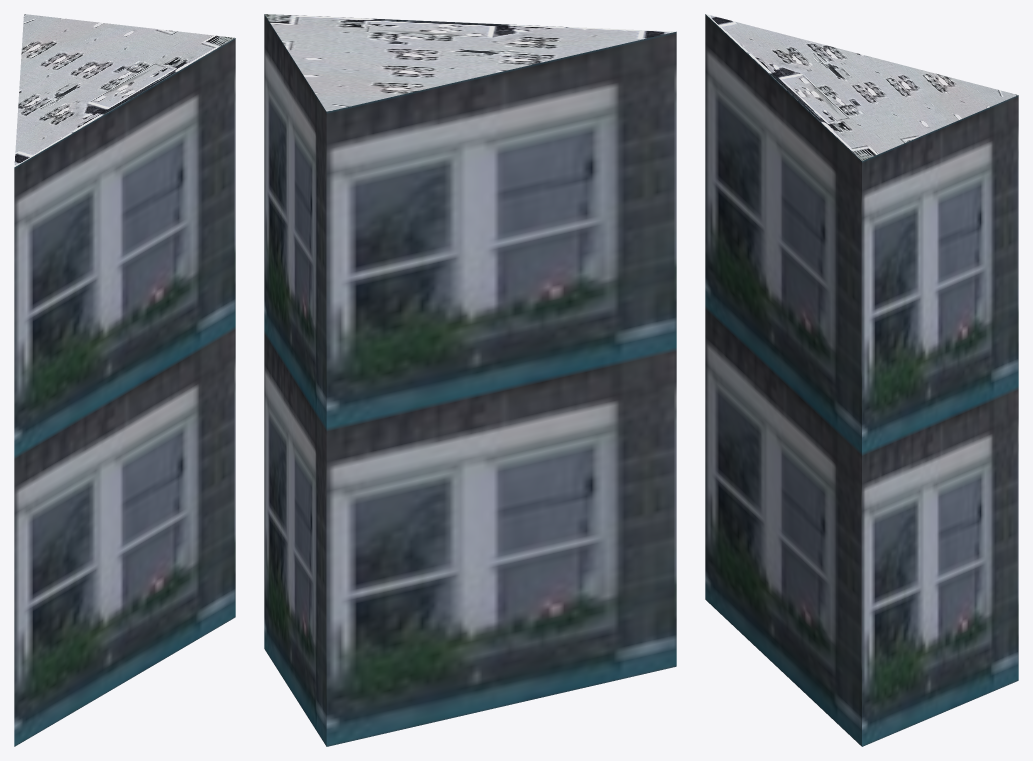
File: ResTex__4256.fbx
The picture shows the model from 3 angles, left to right: view 1: azimuth 30°, elevation 25°; view 2: azimuth 150°, elevation 25°; view 3: azimuth 270°, elevation 25°; orthographic projection. The views are drawn at different scales.
Parts seen in each view (by area): view 1: CityEngineMaterial_11_m, CityEngineMaterial_m; view 2: CityEngineMaterial_11_m, CityEngineMaterial_m; view 3: CityEngineMaterial_11_m, CityEngineMaterial_m.
Part boxes in pixels (bbox=[...]): CityEngineMaterial_11_m: bbox=[14, 38, 235, 746]; CityEngineMaterial_m: bbox=[14, 14, 234, 167]; CityEngineMaterial_11_m: bbox=[264, 14, 676, 746]; CityEngineMaterial_m: bbox=[264, 14, 675, 111]; CityEngineMaterial_11_m: bbox=[705, 14, 1018, 746]; CityEngineMaterial_m: bbox=[706, 14, 1017, 160].
Size of the model in its own units: 3.24 by 6 by 2.91.
Materials: 2 (2 with a texture image).
